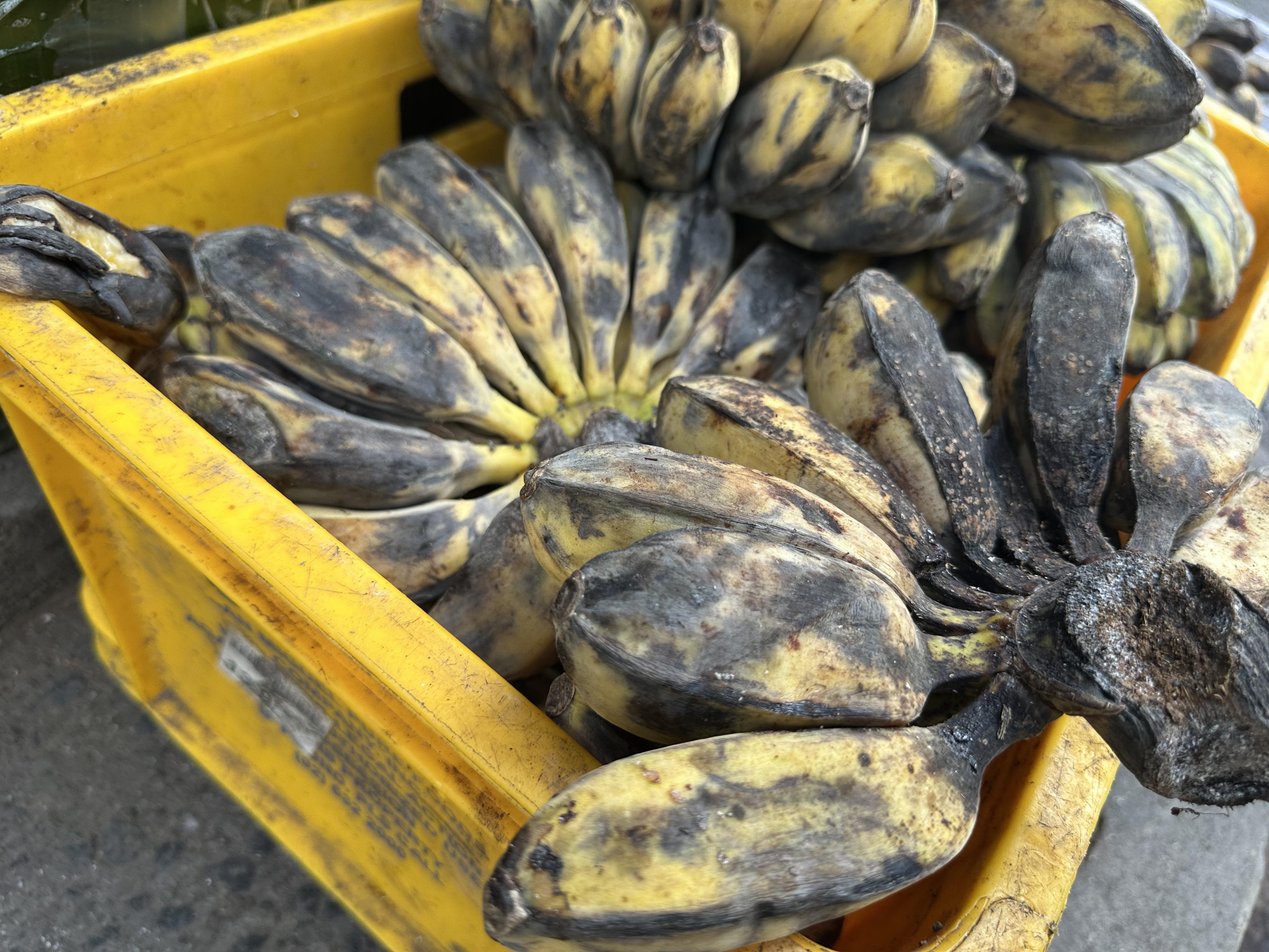overripe: (484, 213, 1269, 948), (161, 120, 818, 590)
ripe: (418, 0, 1027, 300), (975, 109, 1255, 371), (941, 0, 1207, 162)
